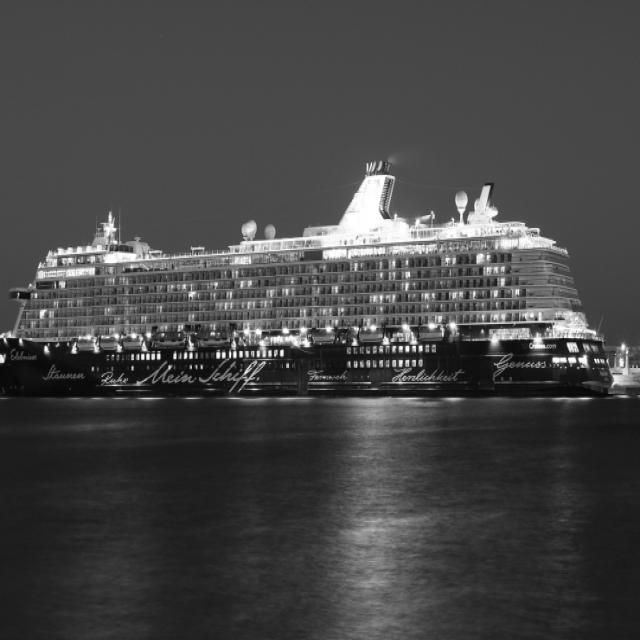cruises: (1, 146, 623, 400)
